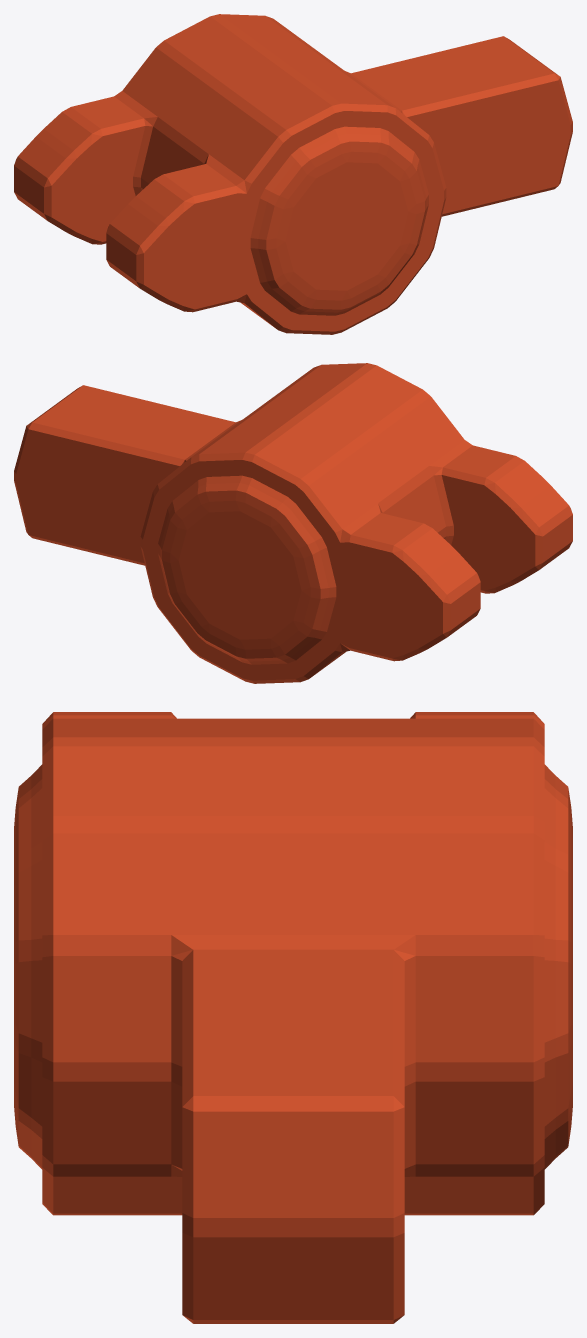
3 views of the same model, one above another, from view 1: azimuth 30°, elevation 25°; view 2: azimuth 150°, elevation 25°; view 3: azimuth 270°, elevation 25° (orthographic). The views are drawn at different scales.
Visible parts, largest first — view 1: node0; view 2: node0; view 3: node0.
Boxes of the visible parts, x1=… form: node0: x1=14, y1=14, x2=572, y2=334; node0: x1=14, y1=363, x2=572, y2=683; node0: x1=14, y1=712, x2=572, y2=1323.
Size of the model in its own units: 2.39 by 1.25 by 1.11.
